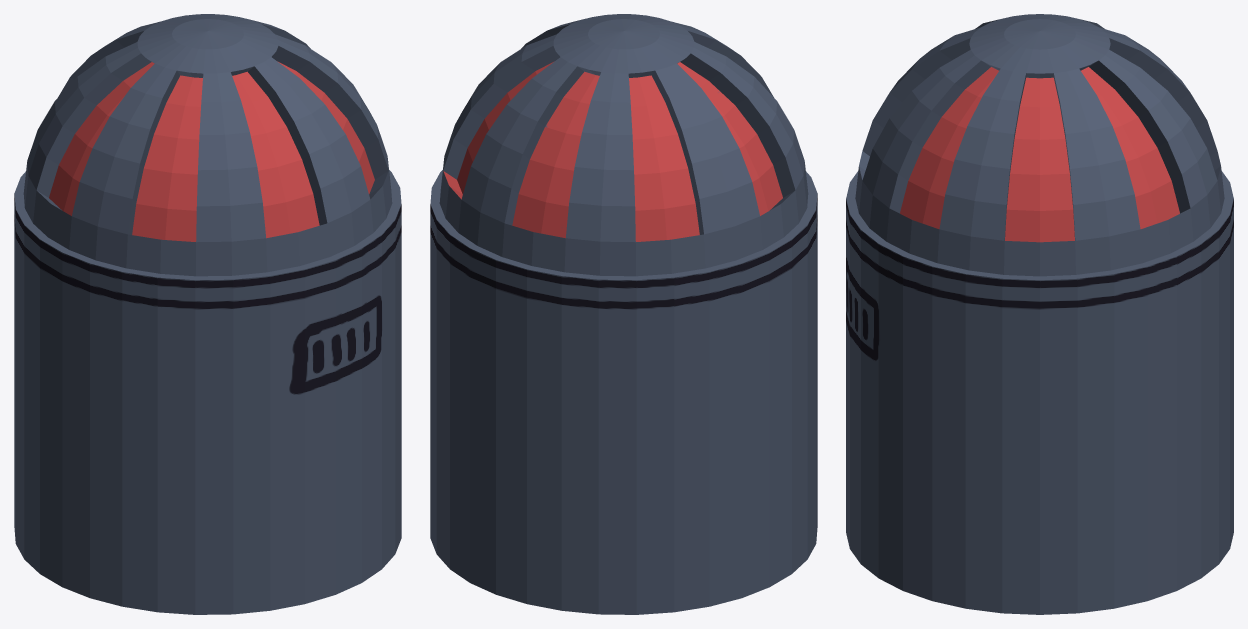
Rendered from Weapon-decorate.glb.
The picture shows the model from 3 angles, left to right: view 1: azimuth 30°, elevation 25°; view 2: azimuth 150°, elevation 25°; view 3: azimuth 270°, elevation 25°; orthographic projection.
Parts seen in each view (by area): view 1: Sphere; view 2: Sphere; view 3: Sphere.
Part boxes in pixels (left/top/right/bottom): Sphere: left=14, top=14, right=401, bottom=614; Sphere: left=430, top=14, right=817, bottom=614; Sphere: left=846, top=14, right=1233, bottom=614.
Size of the model in its own units: 2.1 by 3 by 2.1.
Materials: 1 (1 with a texture image).
